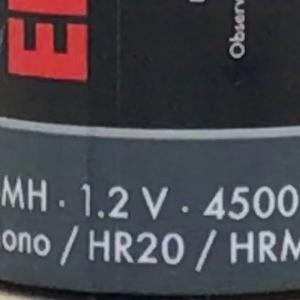HR20: (80, 224, 192, 271)
